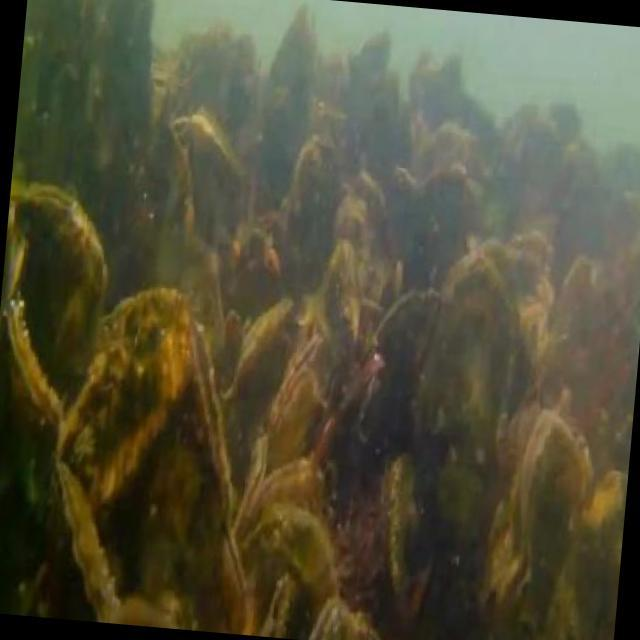Oyster- Indeterminate: (92, 282, 256, 531), (430, 256, 522, 476), (242, 505, 353, 614), (175, 115, 265, 241), (152, 227, 229, 335), (283, 133, 347, 252), (141, 121, 207, 226), (375, 162, 435, 274), (420, 157, 474, 270), (220, 215, 284, 299), (330, 193, 384, 285), (346, 169, 394, 265), (508, 232, 566, 294), (474, 232, 530, 295)
Oyster-Closed: (493, 398, 595, 569), (0, 293, 61, 536), (43, 448, 122, 625), (362, 451, 417, 625), (192, 513, 262, 640), (238, 455, 336, 516), (270, 342, 326, 447), (324, 245, 377, 345), (244, 295, 286, 377), (251, 572, 300, 638), (306, 598, 360, 639)
Oyster-Open: (5, 176, 131, 295), (470, 541, 558, 634)
